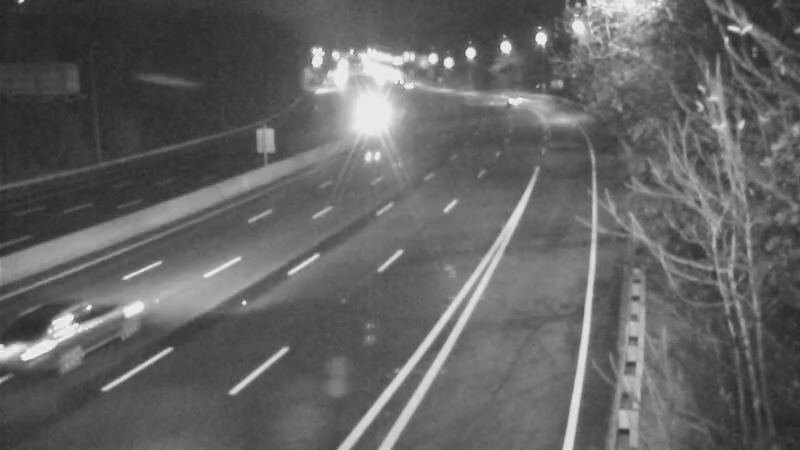vehicle: (16, 278, 126, 388), (486, 69, 536, 119), (339, 92, 389, 142)
